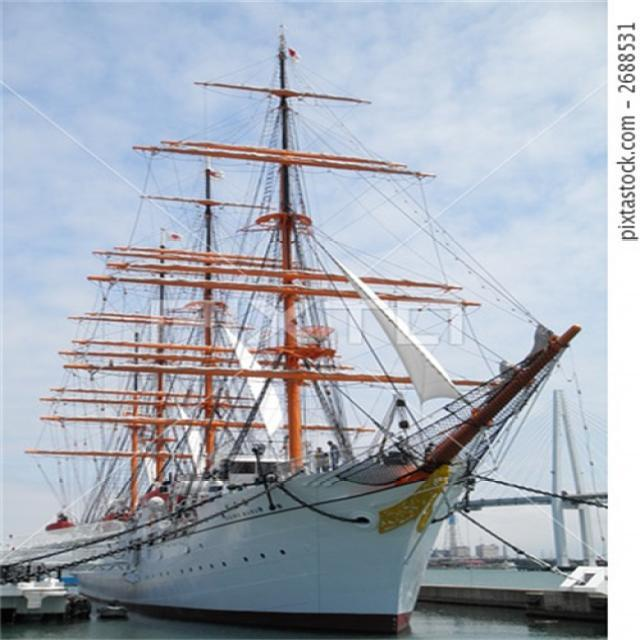Ship: (33, 53, 583, 640)
